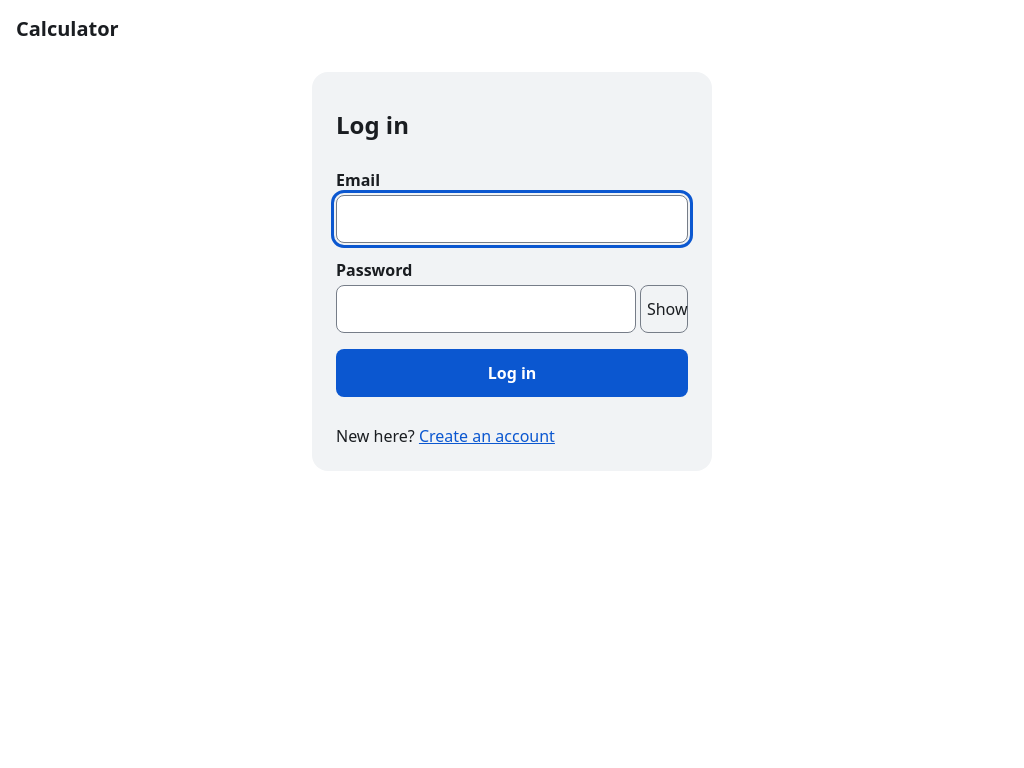
Test case: #3 AC5: log out ends the authenticated session › a 401 session_expired mid-use goes to Log in with the idle banner
Check: the heading "Log in" is shown, box [336,108,409,141]
Click the link "Create an account": (487, 436) [419,425,555,447]
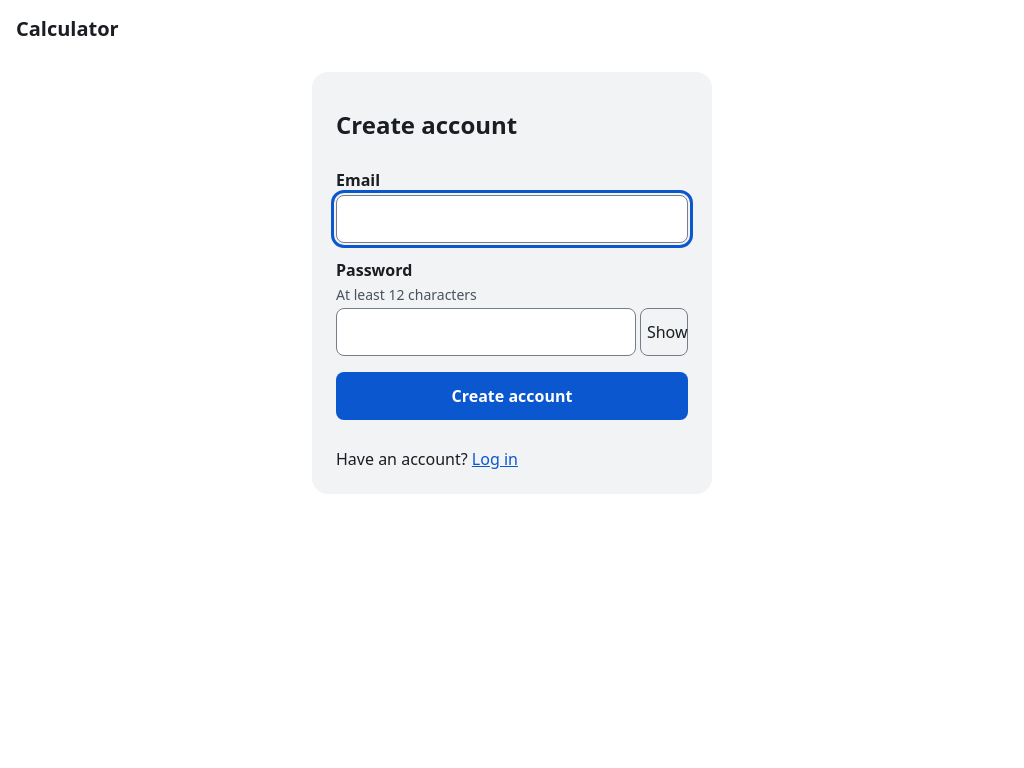
In the field labelled "Email": (512, 219) [336,195,688,243], type "ana@example.com"
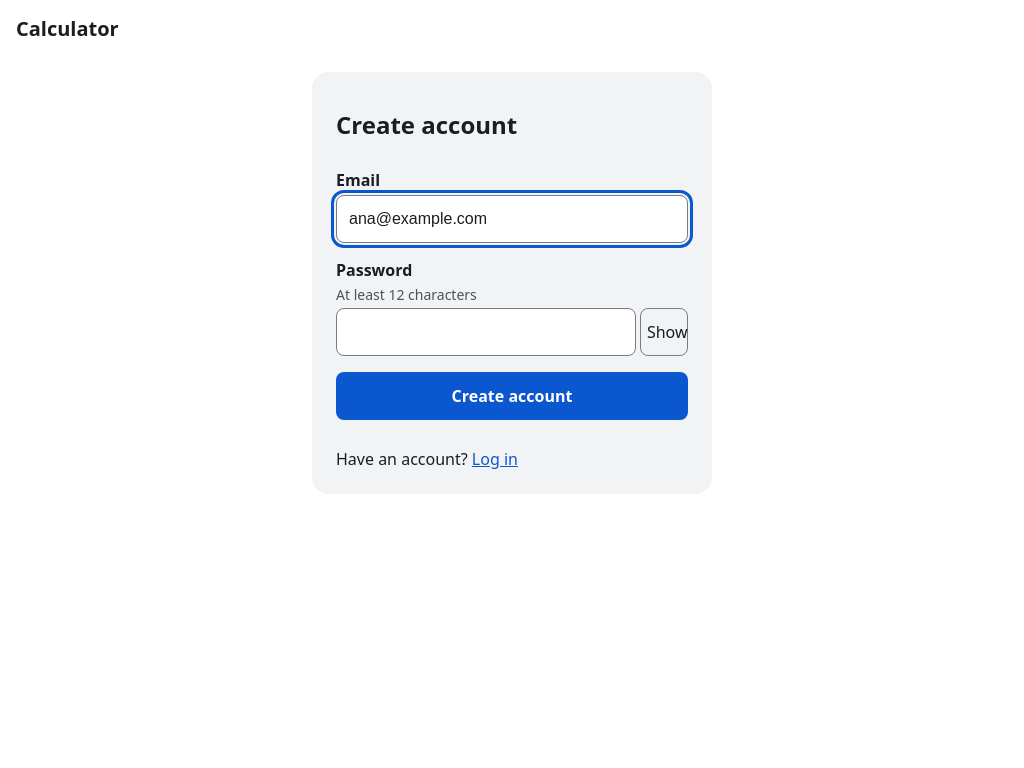
In the password field labelled "Password": (486, 332) [336,308,636,356], type "correct horse battery"
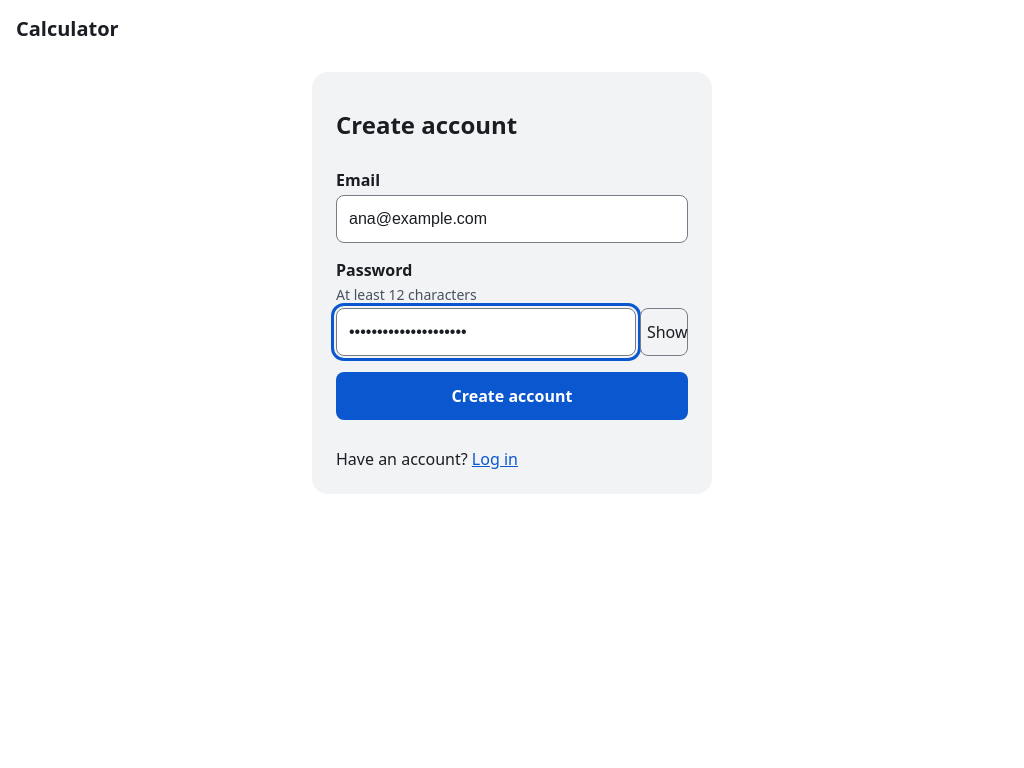
Click the button "Create account": (512, 396) [336,372,688,420]
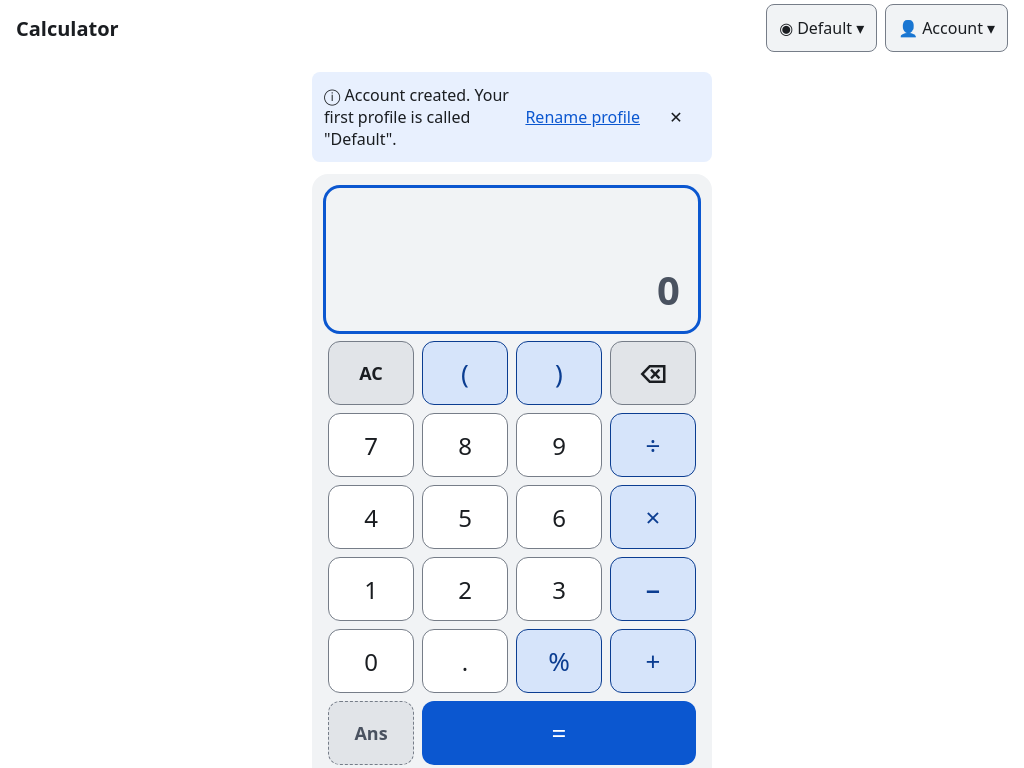
Check: the element named "Keypad" is shown, box [328,341,696,765]
Click the button "1": (371, 589) [328,557,414,621]
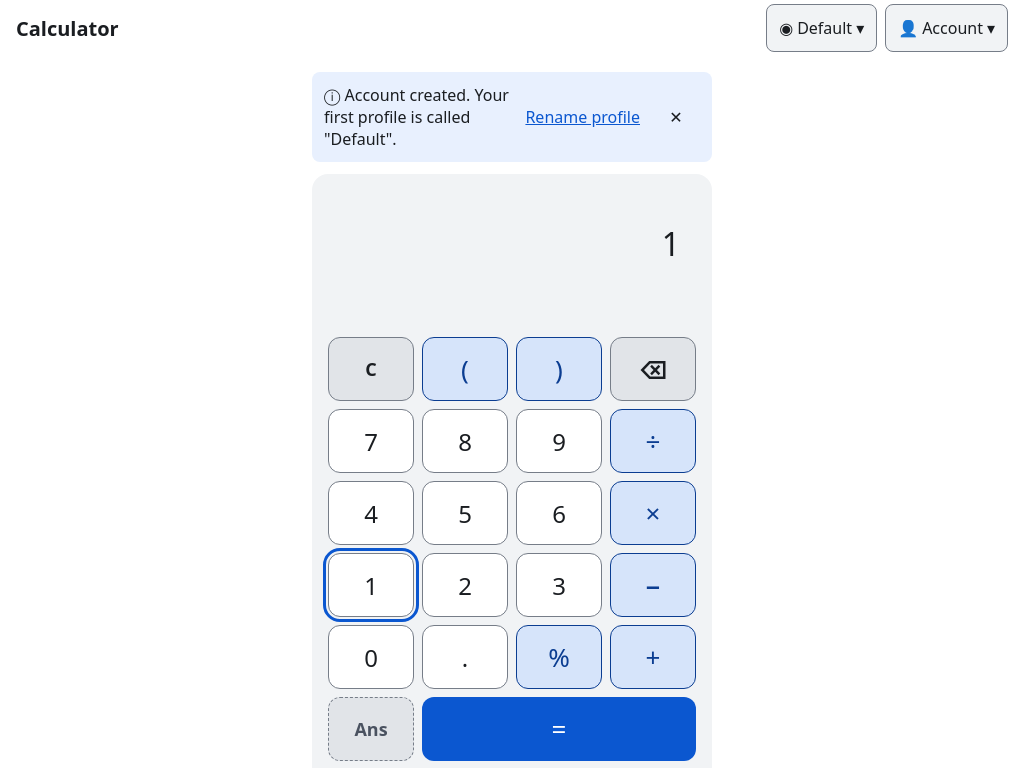
Click the button named "Equals": (559, 729) [422,697,696,761]
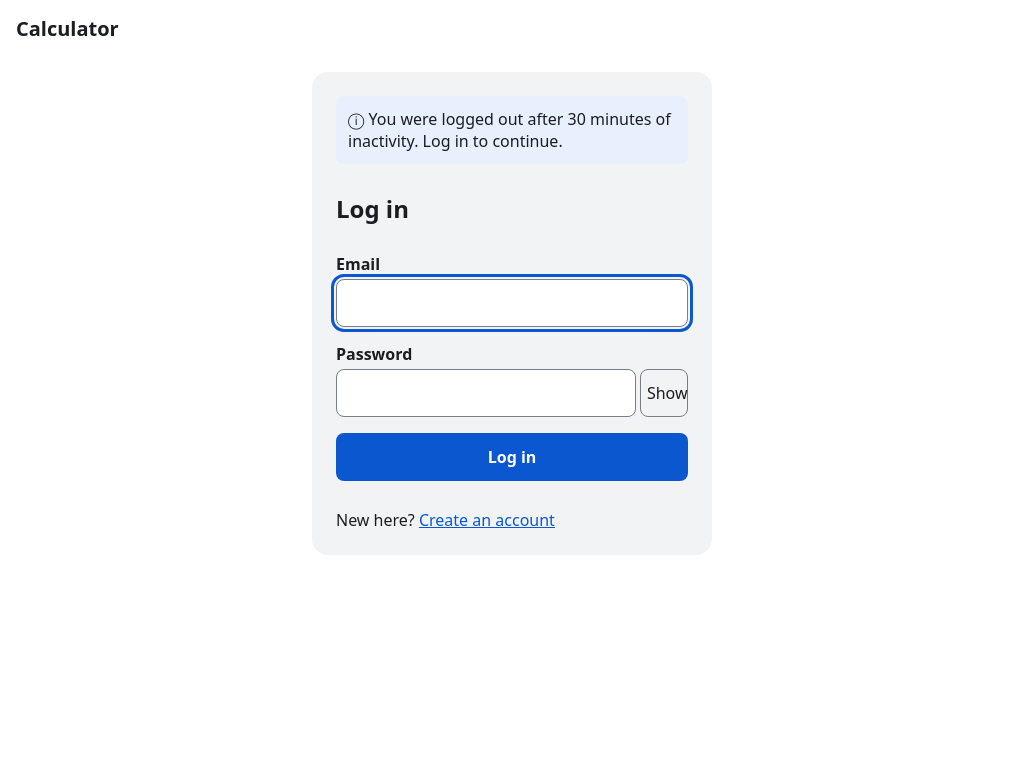
Check: the heading "Log in" is shown, box [336,192,409,225]
Check: the message shows "You were logged out after 30 minutes of inactivity.", box [348,108,671,152]
